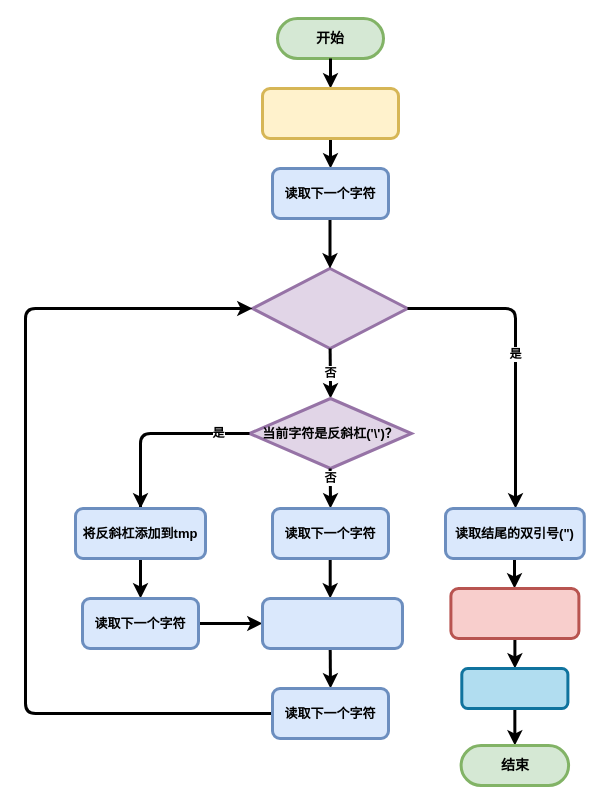
Image size: 603x804. Some labels were removed from this diagram. Each missing label, with the box of its shape:
初始化内容tmp 读取开头的双引号("): (260, 86, 400, 140)
将当前字符添加到tmp: (260, 596, 404, 650)
当前字符是双引号(")？: (250, 266, 408, 350)
识别为字符串常量: (449, 586, 580, 640)
返回TOKEN: (460, 666, 569, 710)
